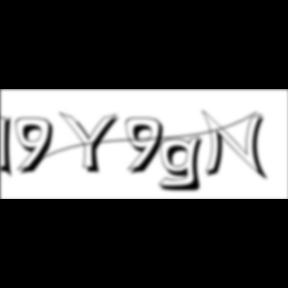9: (125, 117, 170, 177), (16, 117, 60, 177)
I: (1, 110, 20, 182)
N: (201, 109, 271, 183)
Y: (58, 110, 125, 176)
g: (158, 134, 210, 194)
